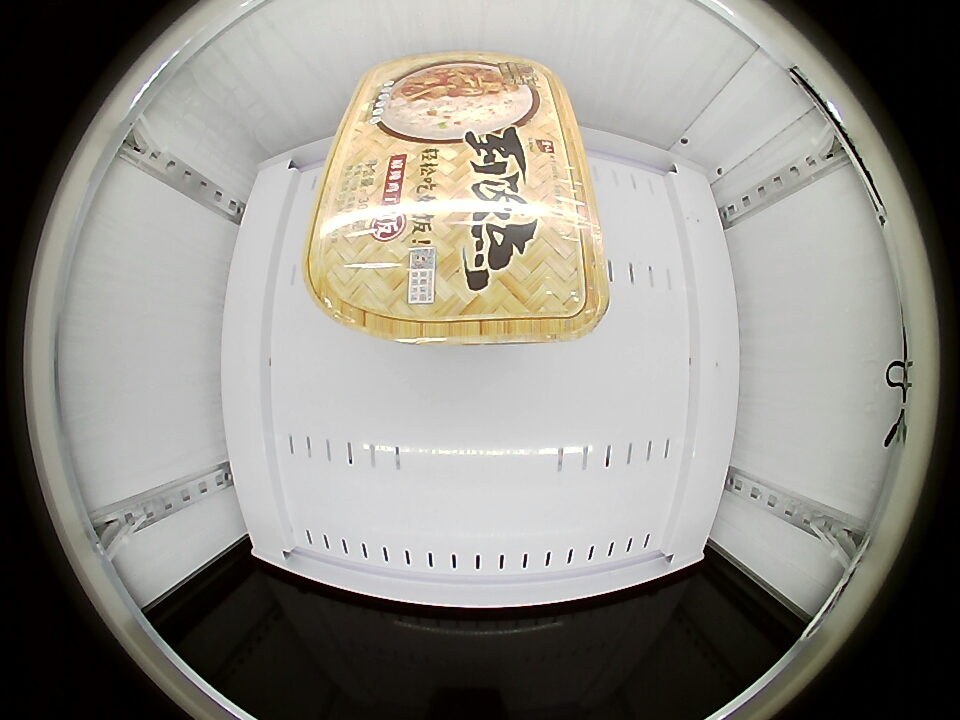daofandian4: (306, 52, 608, 347)
